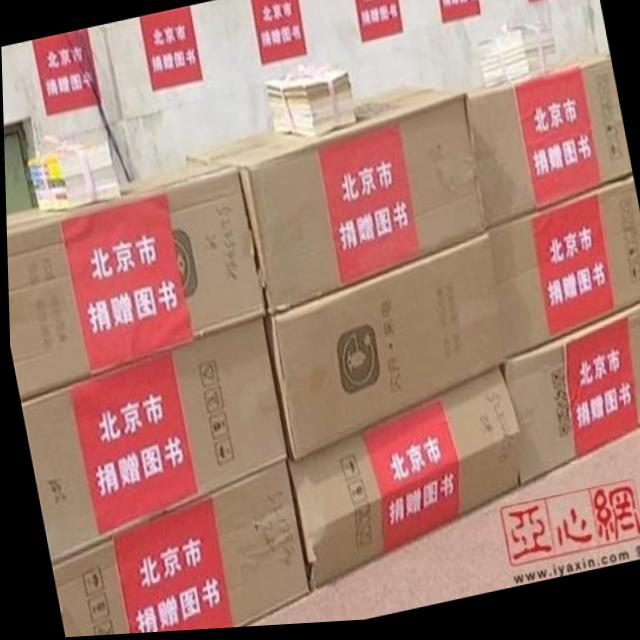box: (184, 89, 489, 319), (19, 319, 285, 565), (5, 166, 265, 402), (262, 235, 504, 466), (284, 373, 518, 596), (49, 462, 306, 638), (464, 59, 631, 232), (490, 182, 640, 363), (503, 308, 640, 492)
